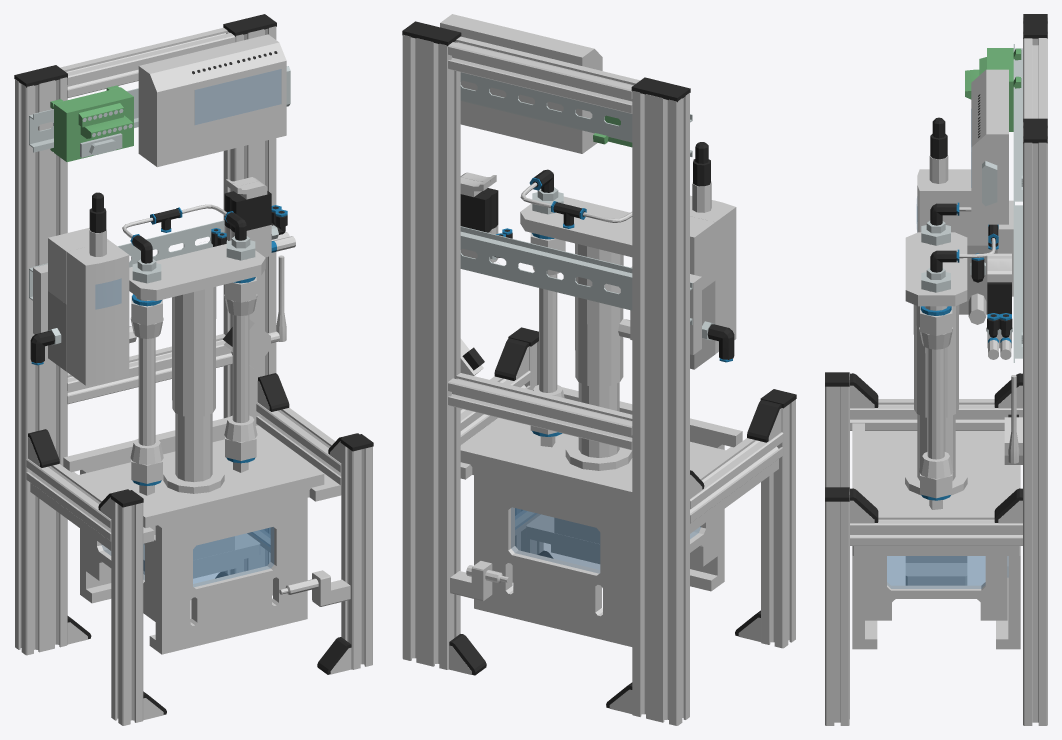
Rendered from muscle press.fbx.
The picture shows the model from 3 angles, left to right: view 1: azimuth 30°, elevation 25°; view 2: azimuth 150°, elevation 25°; view 3: azimuth 270°, elevation 25°; orthographic projection. The views are drawn at different scales.
Parts seen in each view (by area): view 1: FbxMesh.002, FbxMesh.023, FbxMesh.070, FbxMesh.091, FbxMesh.037, FbxMesh.003, FbxMesh.031, FbxMesh.004, FbxMesh.001, FbxMesh.036, FbxMesh.008, FbxMesh.025 (+37 smaller); view 2: FbxMesh.002, FbxMesh.001, FbxMesh.025, FbxMesh.070, FbxMesh.003, FbxMesh.033, FbxMesh.008, FbxMesh.007, FbxMesh.037, FbxMesh.031, FbxMesh.032, FbxMesh.026 (+22 smaller); view 3: FbxMesh.001, FbxMesh.031, FbxMesh.004, FbxMesh.070, FbxMesh.005, FbxMesh.030, FbxMesh.037, FbxMesh.006, FbxMesh.028, FbxMesh.036, FbxMesh.003, FbxMesh.023 (+39 smaller).
Part boxes in pixels (x1,y1,x2,y2): FbxMesh.002: [15, 77, 67, 655]; FbxMesh.023: [143, 469, 324, 654]; FbxMesh.070: [138, 34, 286, 167]; FbxMesh.091: [67, 241, 129, 385]; FbxMesh.037: [172, 286, 216, 481]; FbxMesh.003: [111, 499, 143, 725]; FbxMesh.031: [30, 425, 341, 550]; FbxMesh.004: [341, 443, 372, 669]; FbxMesh.001: [223, 26, 276, 595]; FbxMesh.036: [129, 244, 265, 300]; FbxMesh.008: [60, 27, 235, 97]; FbxMesh.025: [63, 417, 237, 603]; FbxMesh.002: [632, 91, 689, 725]; FbxMesh.001: [402, 35, 460, 669]; FbxMesh.025: [460, 444, 632, 646]; FbxMesh.070: [440, 14, 602, 153]; FbxMesh.003: [761, 399, 795, 648]; FbxMesh.033: [460, 226, 692, 324]; FbxMesh.008: [448, 36, 640, 113]; FbxMesh.007: [448, 373, 632, 450]; FbxMesh.037: [575, 243, 623, 457]; FbxMesh.031: [460, 417, 778, 533]; FbxMesh.032: [460, 72, 692, 156]; FbxMesh.026: [511, 507, 600, 573]; FbxMesh.001: [1023, 122, 1047, 725]; FbxMesh.031: [852, 431, 1020, 555]; FbxMesh.004: [825, 492, 849, 725]; FbxMesh.070: [971, 69, 1008, 224]; FbxMesh.005: [850, 514, 1022, 545]; FbxMesh.030: [865, 556, 1007, 620]; FbxMesh.037: [913, 305, 959, 480]; FbxMesh.006: [850, 399, 1022, 430]; FbxMesh.028: [887, 556, 985, 588]; FbxMesh.036: [905, 232, 967, 306]; FbxMesh.003: [825, 377, 849, 491]; FbxMesh.023: [852, 423, 877, 649].
Size of the model in its own units: 26.05 by 52.29 by 18.01.
